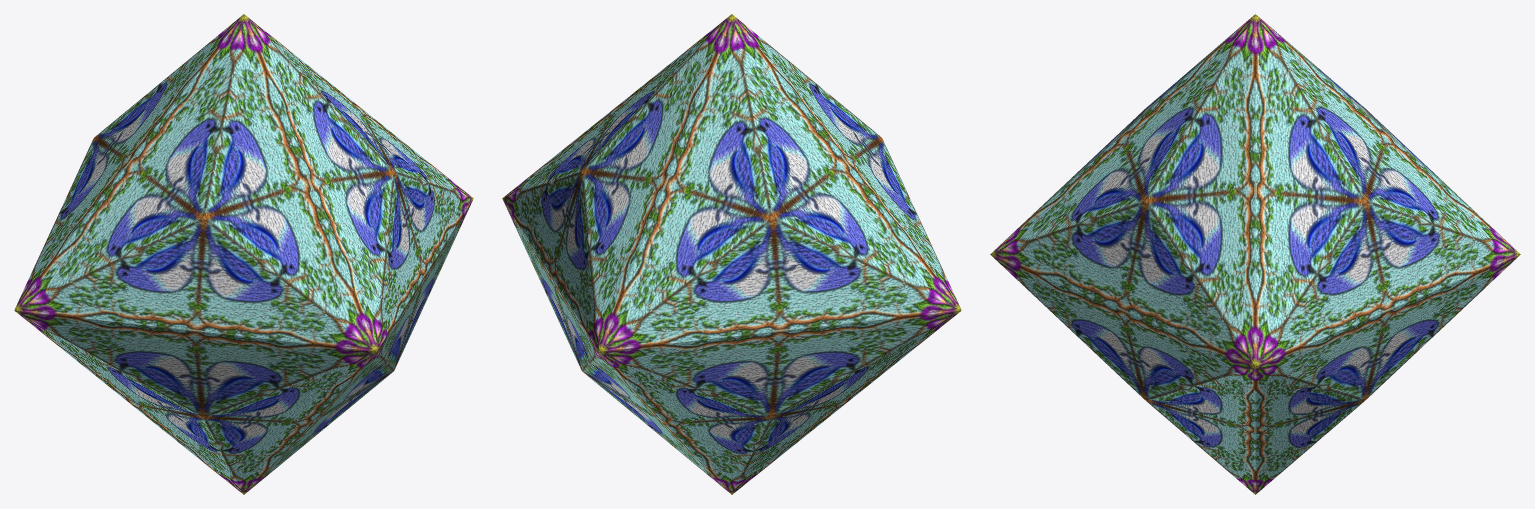
Rendered from TriakisOctahedron3.obj.
3 views of the same model, side by side, from view 1: azimuth 30°, elevation 25°; view 2: azimuth 150°, elevation 25°; view 3: azimuth 270°, elevation 25° (orthographic).
Size of the model in its own units: 4.83 by 4.83 by 4.83.
Materials: 1 (1 with a texture image).
